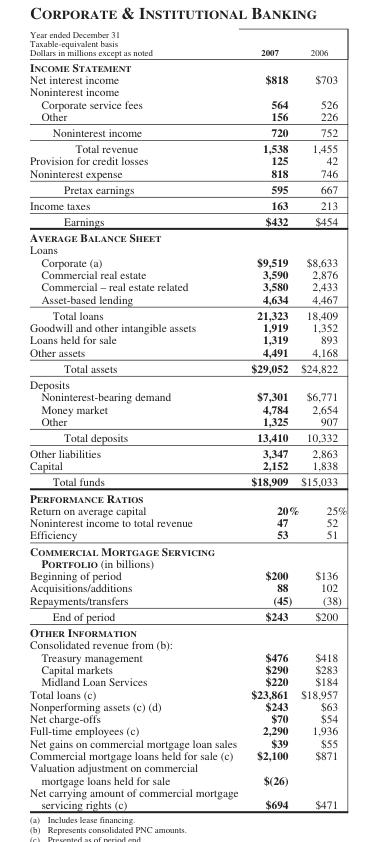table: (29, 28, 346, 810)
table column: (29, 28, 244, 810), (244, 28, 299, 810), (299, 28, 346, 810)
table column header: (29, 28, 346, 58)
table projected row header: (29, 542, 346, 568), (29, 375, 346, 390), (29, 623, 346, 638), (29, 58, 346, 72), (29, 229, 346, 243), (29, 489, 346, 503), (29, 85, 346, 97), (29, 243, 346, 255), (29, 638, 346, 650)
table row: (29, 28, 346, 58), (29, 542, 346, 568), (29, 761, 346, 786), (29, 786, 346, 810), (29, 123, 346, 140), (29, 212, 346, 229), (29, 180, 346, 196), (29, 196, 346, 212), (29, 359, 346, 375), (29, 428, 346, 444), (29, 473, 346, 489), (29, 607, 346, 623), (29, 375, 346, 390), (29, 444, 346, 459), (29, 623, 346, 638), (29, 58, 346, 72), (29, 109, 346, 123), (29, 140, 346, 154), (29, 166, 346, 180), (29, 229, 346, 243), (29, 292, 346, 306), (29, 306, 346, 320), (29, 345, 346, 359), (29, 414, 346, 428), (29, 459, 346, 473), (29, 489, 346, 503), (29, 528, 346, 542), (29, 593, 346, 607), (29, 72, 346, 85), (29, 267, 346, 280), (29, 320, 346, 333), (29, 515, 346, 528), (29, 568, 346, 581), (29, 662, 346, 675), (29, 711, 346, 724), (29, 748, 346, 761), (29, 85, 346, 97), (29, 97, 346, 109), (29, 154, 346, 166), (29, 243, 346, 255), (29, 255, 346, 267), (29, 280, 346, 292), (29, 333, 346, 345), (29, 390, 346, 402), (29, 402, 346, 414), (29, 503, 346, 515), (29, 581, 346, 593), (29, 638, 346, 650), (29, 650, 346, 662), (29, 675, 346, 687), (29, 687, 346, 699), (29, 699, 346, 711), (29, 724, 346, 736), (29, 736, 346, 748)
